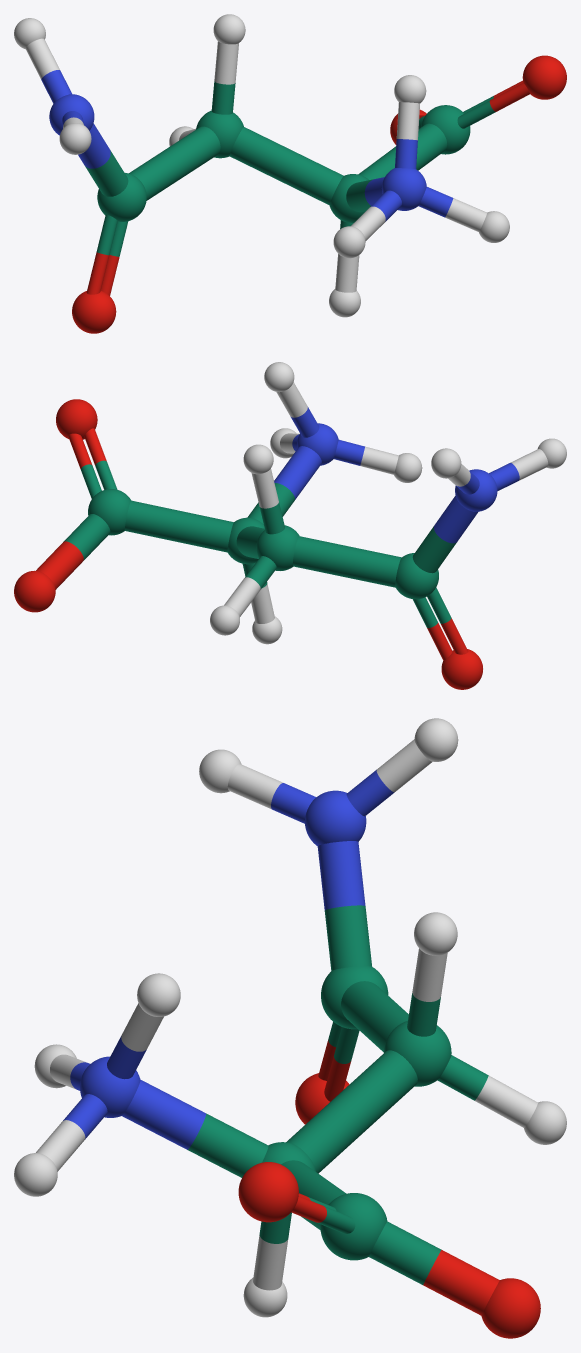
Rendered from ASN.PDB.glb.
3 renders of one model, top to bottom at view 1: azimuth 30°, elevation 25°; view 2: azimuth 150°, elevation 25°; view 3: azimuth 270°, elevation 25°, orthographic. The views are drawn at different scales.
Bounding box in the file's own units: 6.18 × 3.55 × 4.17.
